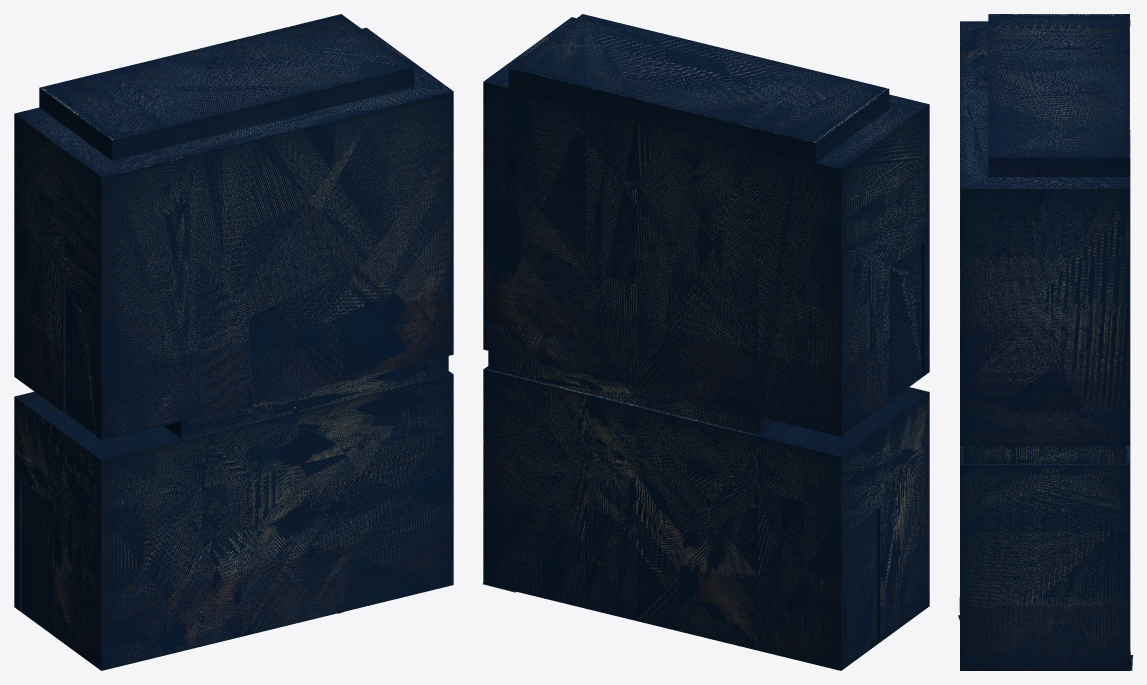
The model's file is stairs.fbx.
3 views of the same model, side by side, from view 1: azimuth 30°, elevation 25°; view 2: azimuth 150°, elevation 25°; view 3: azimuth 270°, elevation 25° (orthographic). The views are drawn at different scales.
Visible parts, largest first — view 1: Material2, Material3.005, Material2.001, Material3.004, Material3.007, Material3.002, Material3.006; view 2: Material2, Material3.005, Material3.004, Material2.001, Material3.002, Material3.007, Material3.006; view 3: Material2, Material3.004, Material2.001, Material3.007.
Boxes of the visible parts, x1,y1,x2,y2 form: Material2: (14,14,453,670); Material3.005: (101,93,453,669); Material2.001: (16,15,452,177); Material3.004: (14,117,453,669); Material3.007: (14,169,252,540); Material3.002: (19,283,203,629); Material3.006: (16,392,181,632); Material2: (482,14,929,670); Material3.005: (483,82,841,669); Material3.004: (485,107,929,669); Material2.001: (486,14,928,167); Material3.002: (846,243,924,665); Material3.007: (841,160,929,508); Material3.006: (759,386,928,664); Material2: (959,14,1132,670); Material3.004: (960,189,1130,670); Material2.001: (960,14,1130,188); Material3.007: (960,394,1130,445).
Bounding box in the file's own units: 261 × 364 × 115.
Materials: 12 (11 with a texture image).
